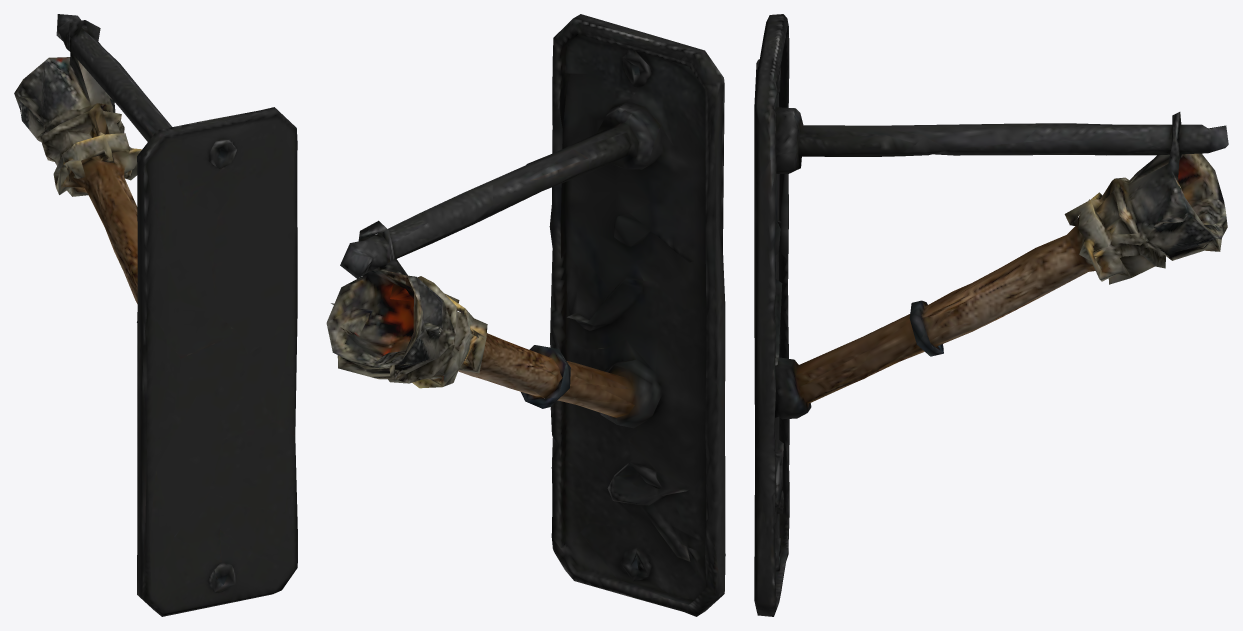
Rendered from bb_wall_torch.f8e349e68f.glb.
The picture shows the model from 3 angles, left to right: view 1: azimuth 30°, elevation 25°; view 2: azimuth 150°, elevation 25°; view 3: azimuth 270°, elevation 25°; orthographic projection. The views are drawn at different scales.
Parts seen in each view (by area): view 1: bb_wall_torch; view 2: bb_wall_torch; view 3: bb_wall_torch.
Boxes of the visible parts, x1,y1,x2,y2 form: bb_wall_torch: [14, 14, 297, 616]; bb_wall_torch: [326, 14, 725, 616]; bb_wall_torch: [754, 14, 1228, 616].
Size of the model in its own units: 0.154 by 0.45 by 0.3566.
Materials: 1 (1 with a texture image).
